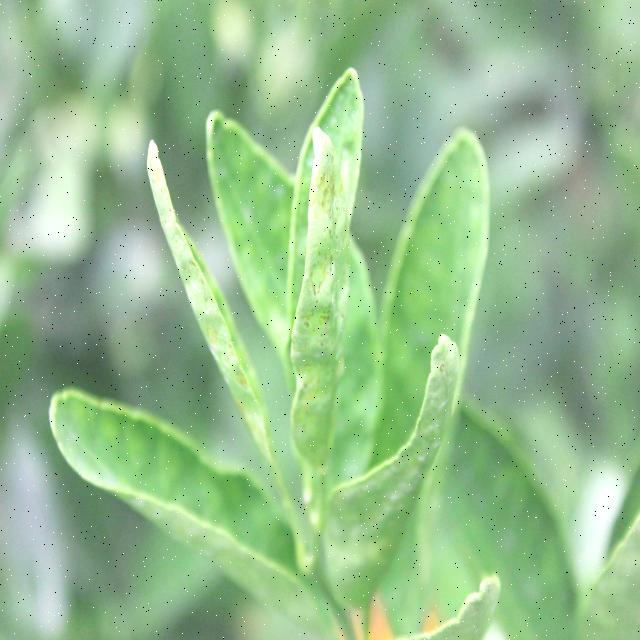canker: (302, 145, 344, 458)
